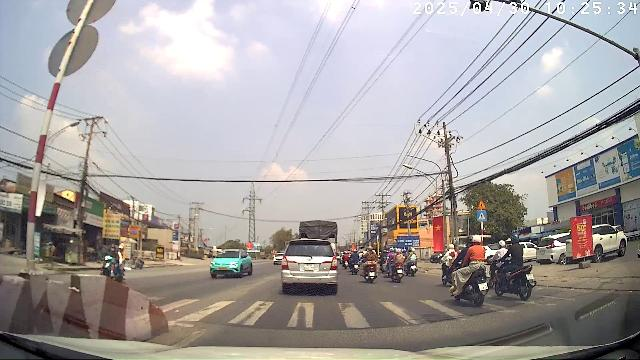423a-duong-nguoi-di-bo-sang-ngang-1: (477, 210, 487, 221)
